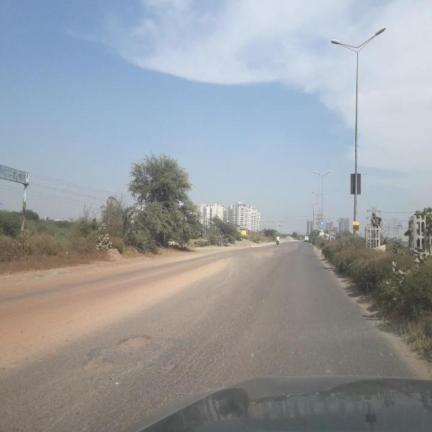Road: (0, 242, 413, 431)
